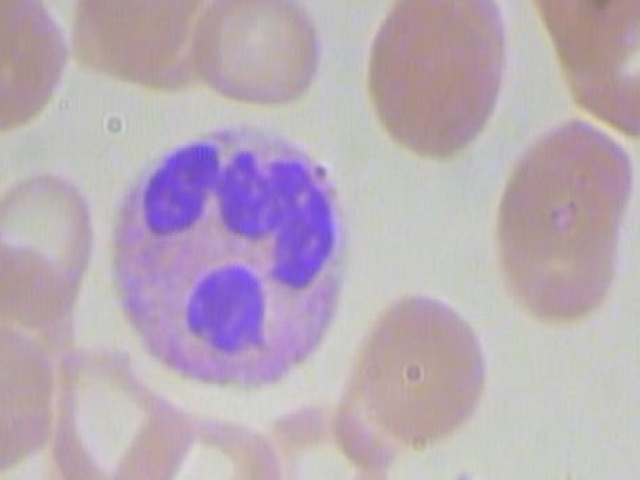RBC: (491, 102, 636, 336), (356, 0, 519, 159), (18, 335, 193, 480), (349, 280, 489, 444), (186, 0, 334, 106), (0, 168, 112, 303), (106, 408, 288, 480), (264, 389, 387, 480), (523, 0, 640, 67), (605, 474, 640, 480)
WBC: (85, 117, 361, 394)
